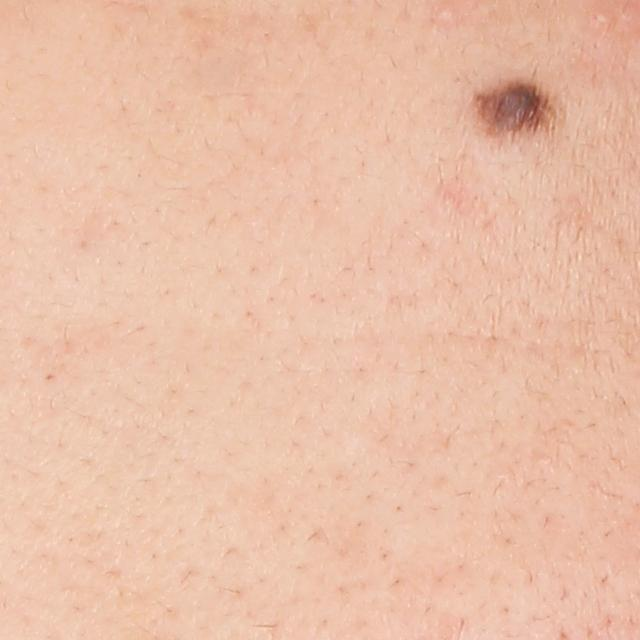comedo: (431, 3, 459, 27)
nevus: (472, 81, 565, 144)
